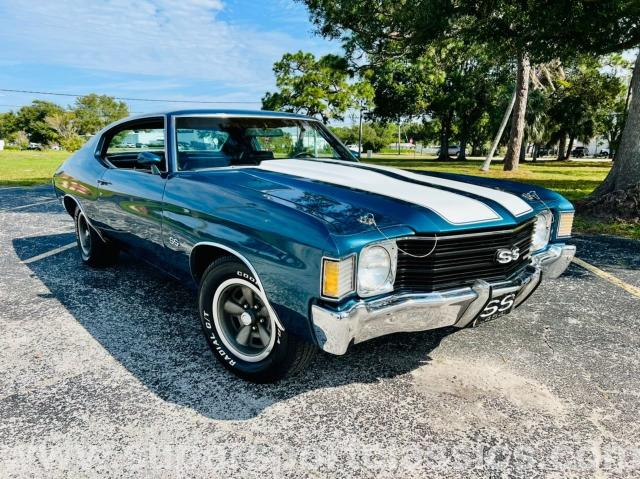chevelle-1972: (52, 110, 575, 382)
